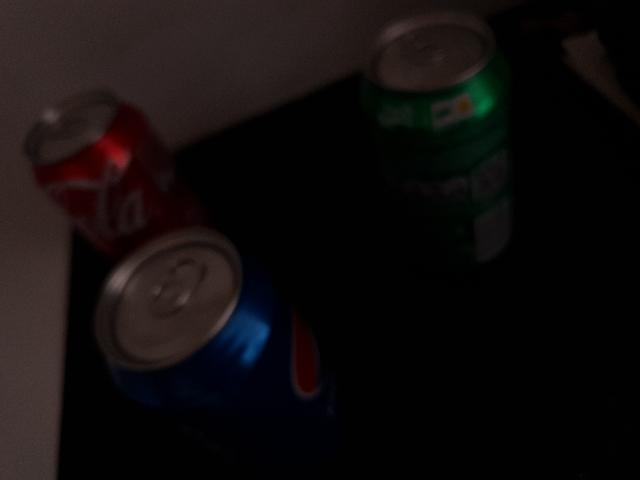coke: (23, 88, 197, 236)
pepsi: (96, 225, 340, 469)
sprite: (359, 13, 527, 283)
